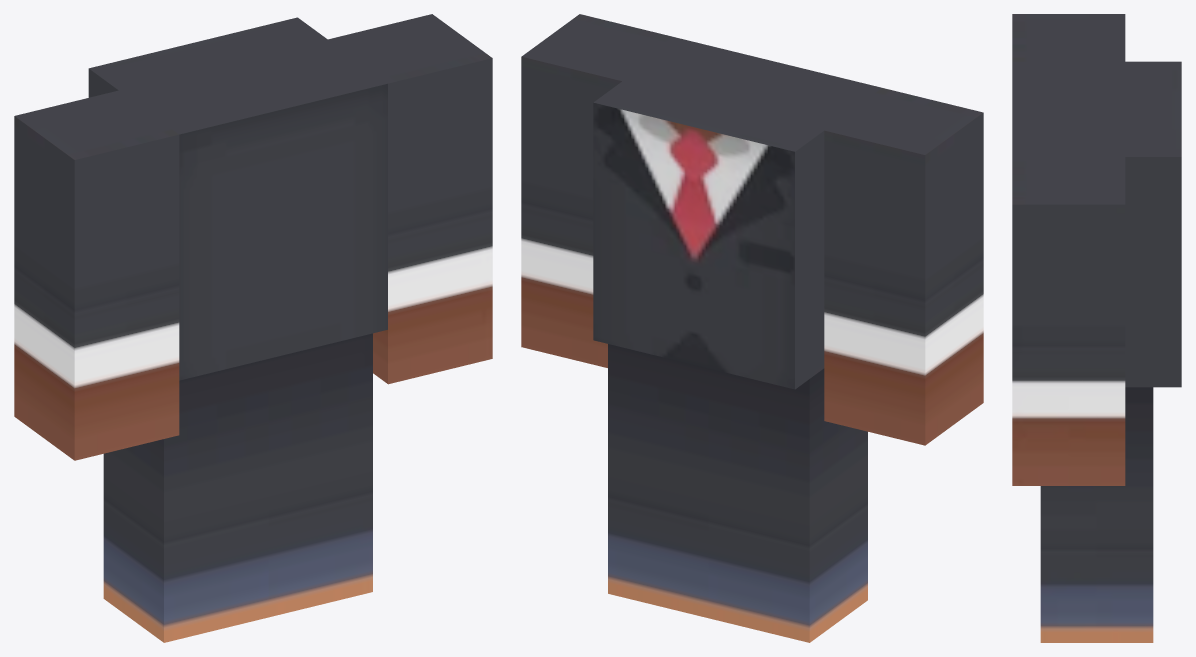
File: blocky-q.glb
3 renders of one model, left to right at view 1: azimuth 30°, elevation 25°; view 2: azimuth 150°, elevation 25°; view 3: azimuth 270°, elevation 25°, orthographic. The views are drawn at different scales.
Visible parts, largest first — view 1: torso, arm-left, arm-right, leg-left, leg-right; view 2: torso, arm-left, leg-left, arm-right, leg-right; view 3: arm-right, torso, leg-right, arm-left.
Part boxes in pixels (left/top/right/bottom): torso: left=88, top=17, right=387, bottom=380; arm-left: left=14, top=90, right=179, bottom=460; arm-right: left=328, top=14, right=492, bottom=384; leg-left: left=103, top=359, right=268, bottom=642; leg-right: left=268, top=333, right=372, bottom=617; torso: left=593, top=38, right=881, bottom=389; arm-left: left=824, top=88, right=983, bottom=445; leg-left: left=708, top=368, right=867, bottom=642; arm-right: left=521, top=14, right=679, bottom=367; leg-right: left=608, top=344, right=708, bottom=618; arm-right: left=1012, top=157, right=1125, bottom=485; torso: left=1012, top=61, right=1181, bottom=387; leg-right: left=1040, top=387, right=1153, bottom=642; arm-left: left=1012, top=14, right=1125, bottom=61.
Bounding box in the file's own units: 1.21 × 1.44 × 0.4537.
1 material, 1 textured.
